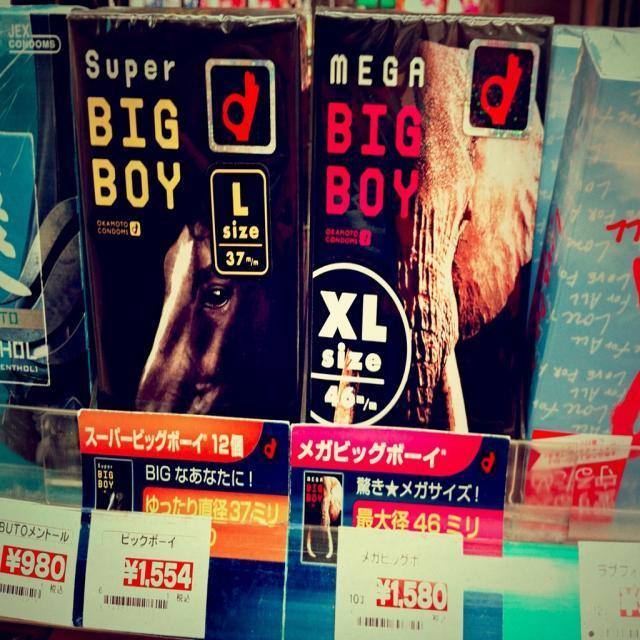book: (70, 10, 303, 453), (299, 21, 540, 424)
